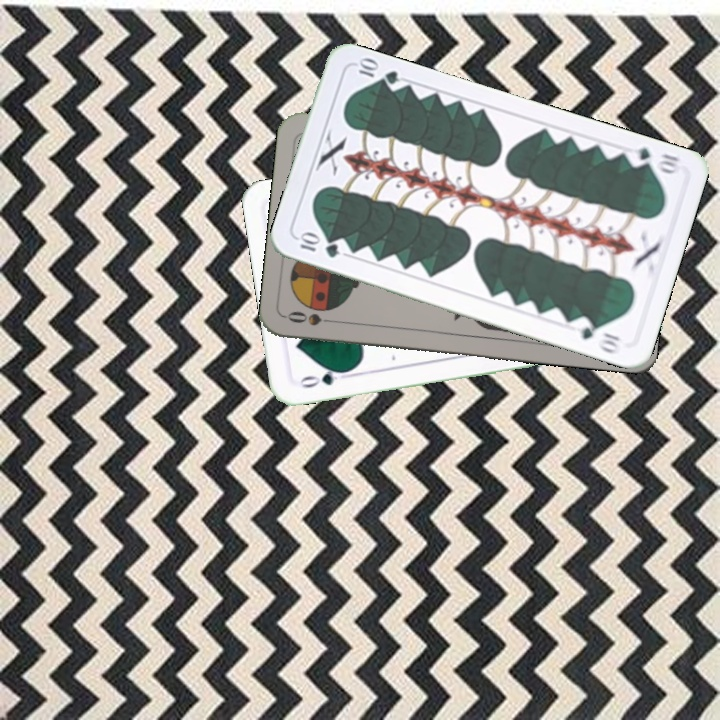G10: (623, 143, 683, 177), (294, 230, 342, 261)
GO: (294, 365, 352, 391)
SO: (283, 307, 343, 329)
